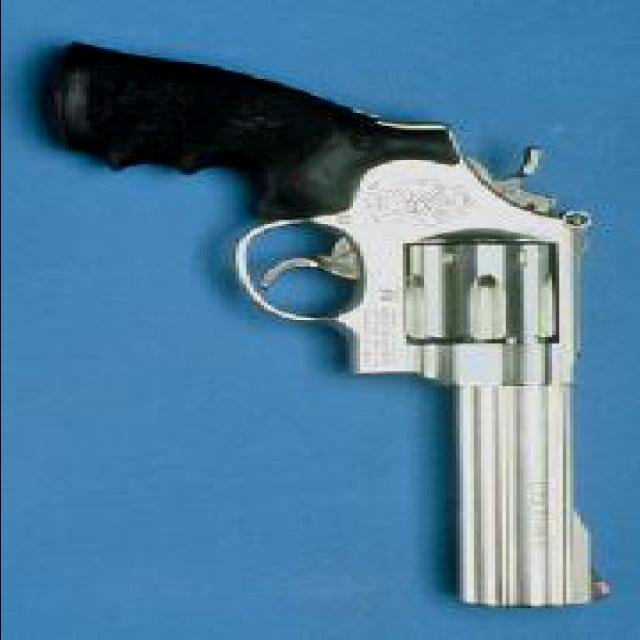handgun: (46, 32, 618, 600)
